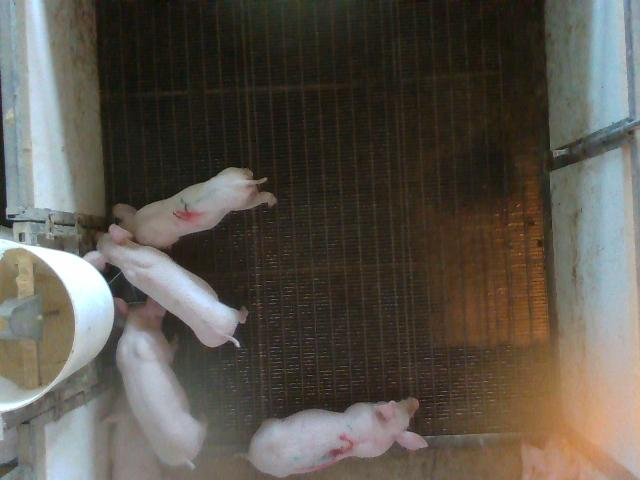pig-3: (242, 398, 427, 477)
pig-4: (112, 168, 274, 248)
